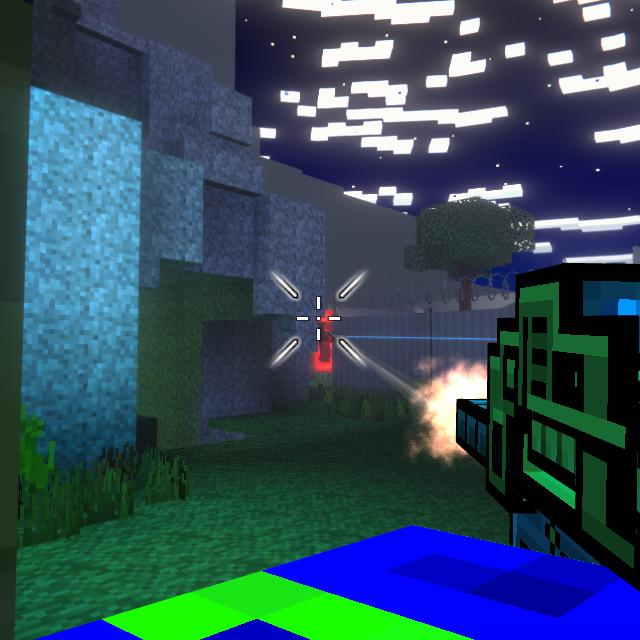Enemy: (318, 322, 332, 363)
